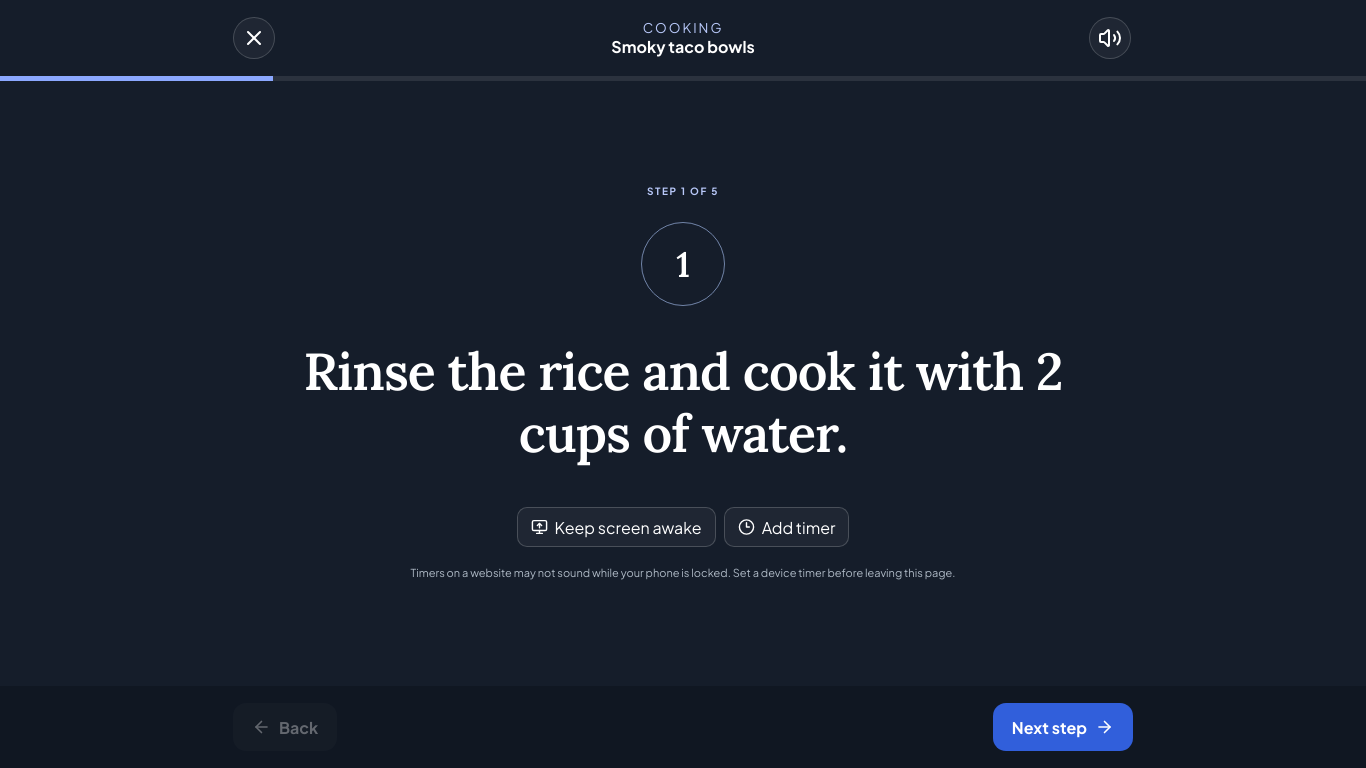
Test: guided cooking mode › lets the cook create, control, extend, reset, and dismiss a labeled timer
Click the button "Add timer": {"x": 786, "y": 527} [724,507,849,547]
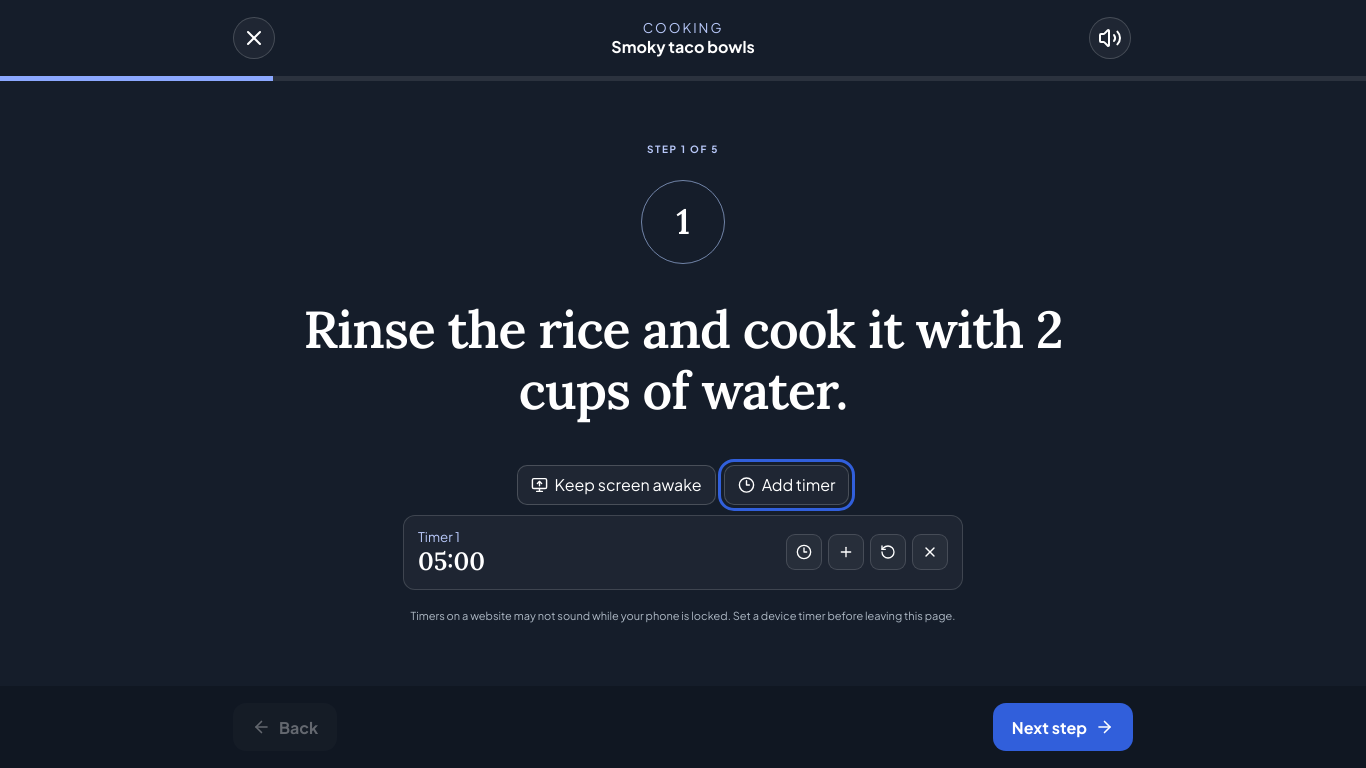
Now the text "Timer 1" is shown, box [418,528,460,545]
Now the text "05:00" is shown, box [418,545,485,577]
Click the button named "Start Timer 1": {"x": 804, "y": 552} [786,534,822,570]
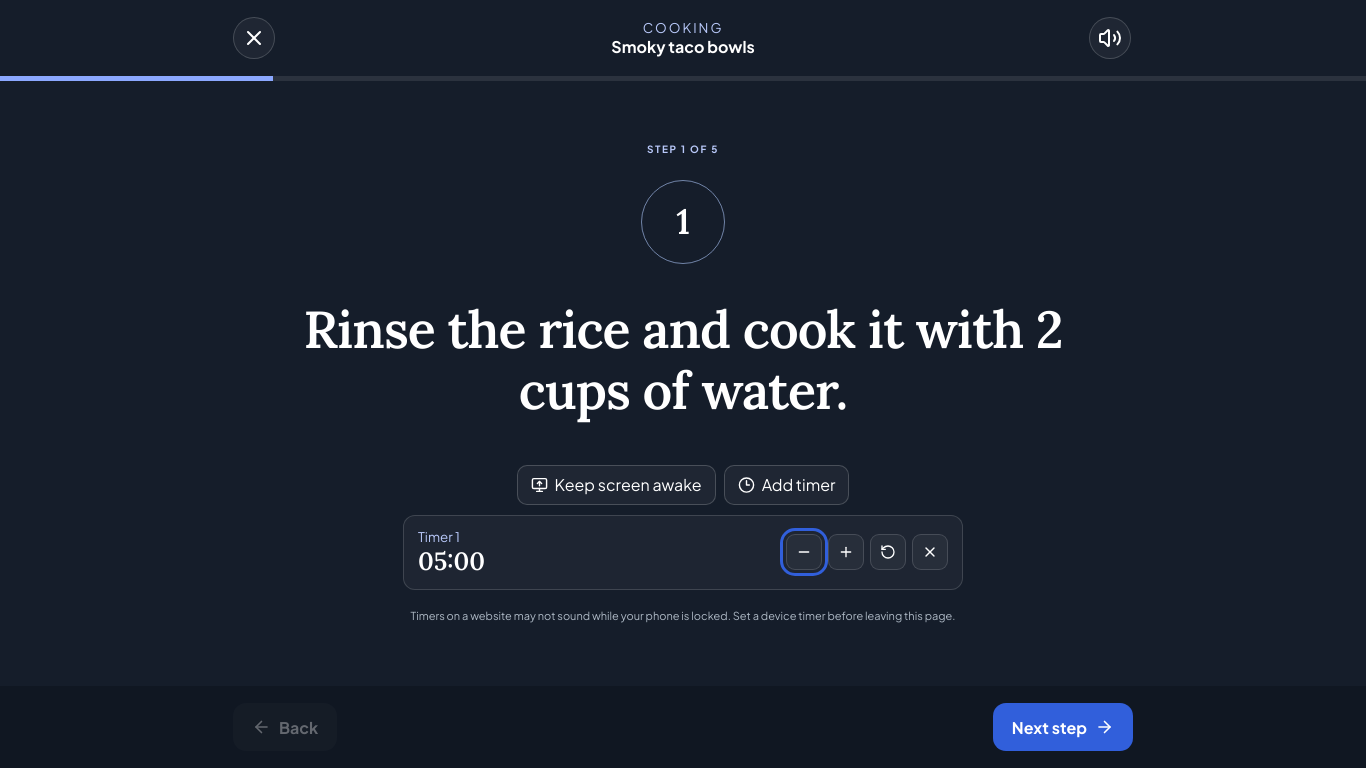
Now the button named "Pause Timer 1" is shown, box [786,534,822,570]
Click the button named "Add one minute to Timer 1": {"x": 846, "y": 552} [828,534,864,570]
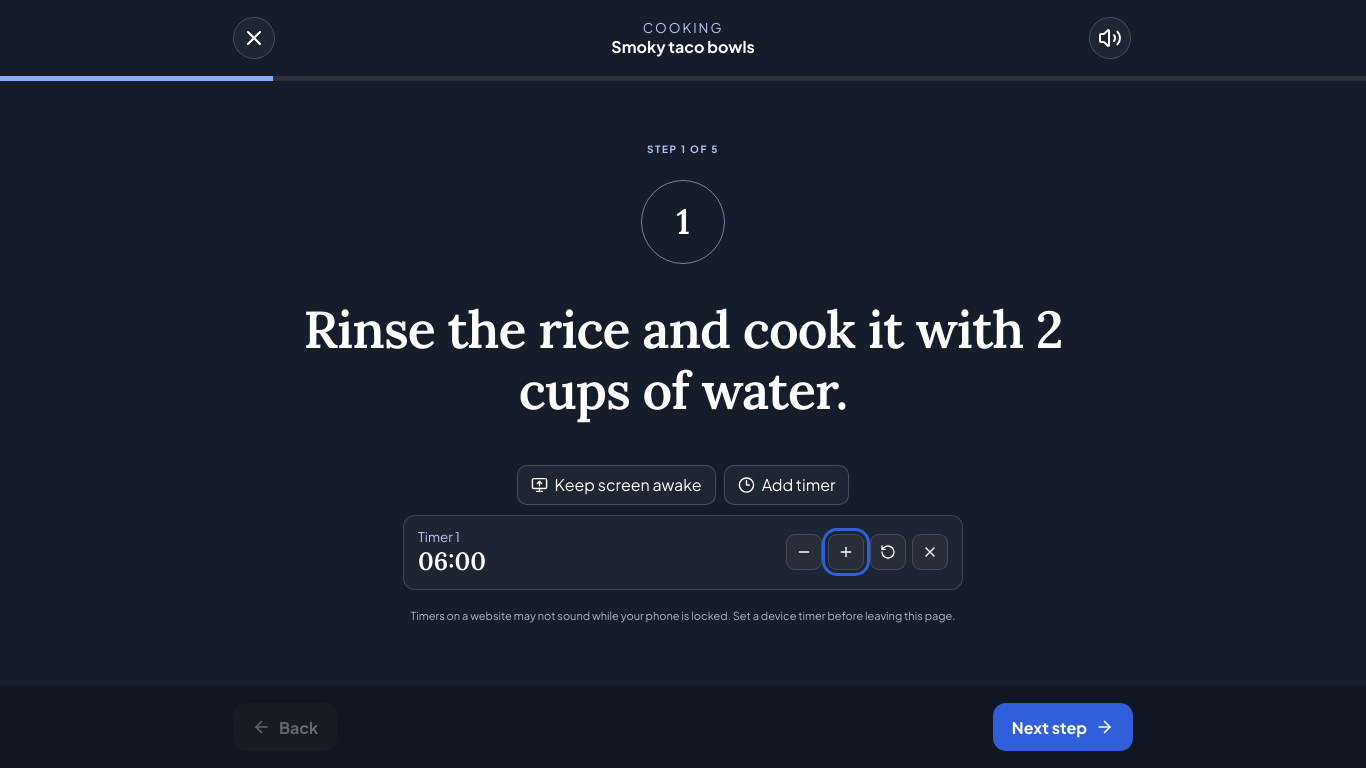
Now the text "06:00" is shown, box [418,545,486,577]
Click the button named "Reset Timer 1": {"x": 888, "y": 552} [870,534,906,570]
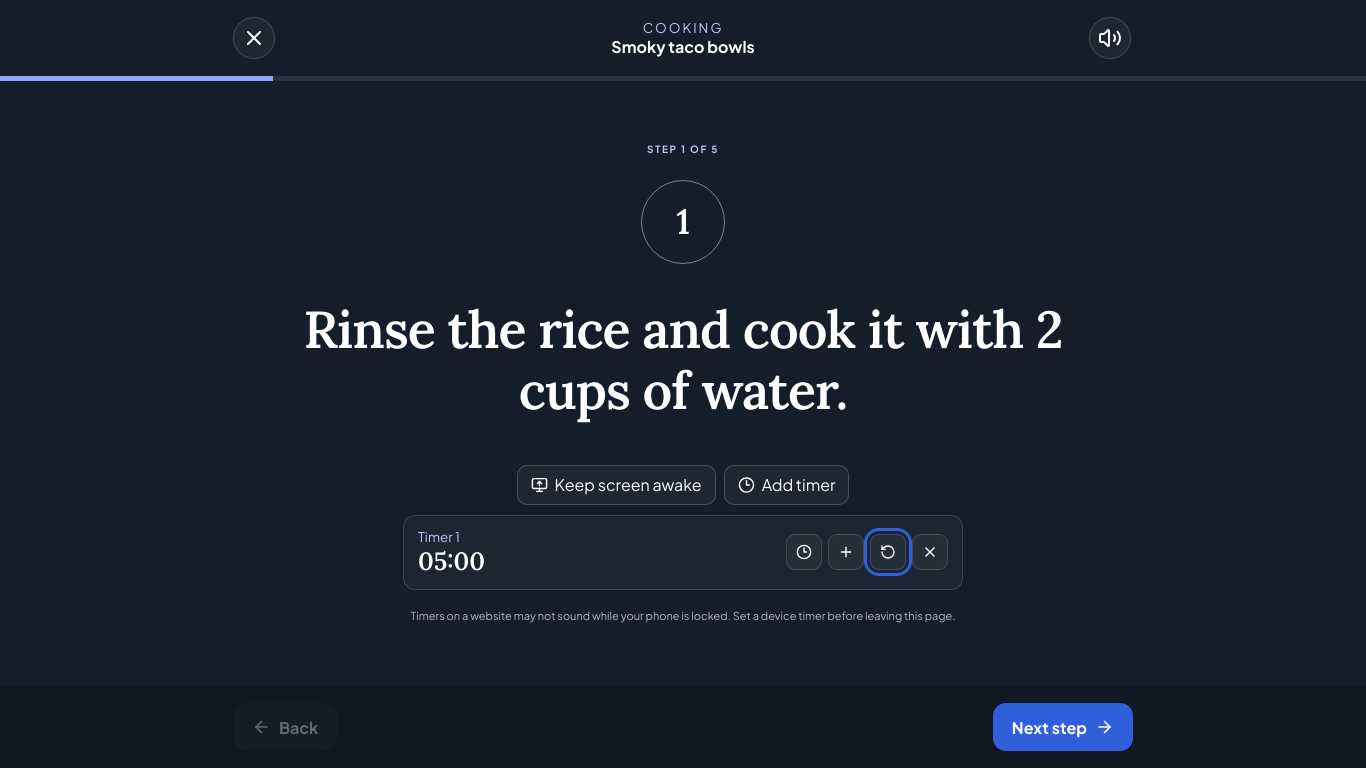
Now the text "05:00" is shown, box [418,545,485,577]
Click the button named "Dismiss Timer 1": {"x": 930, "y": 552} [912,534,948,570]
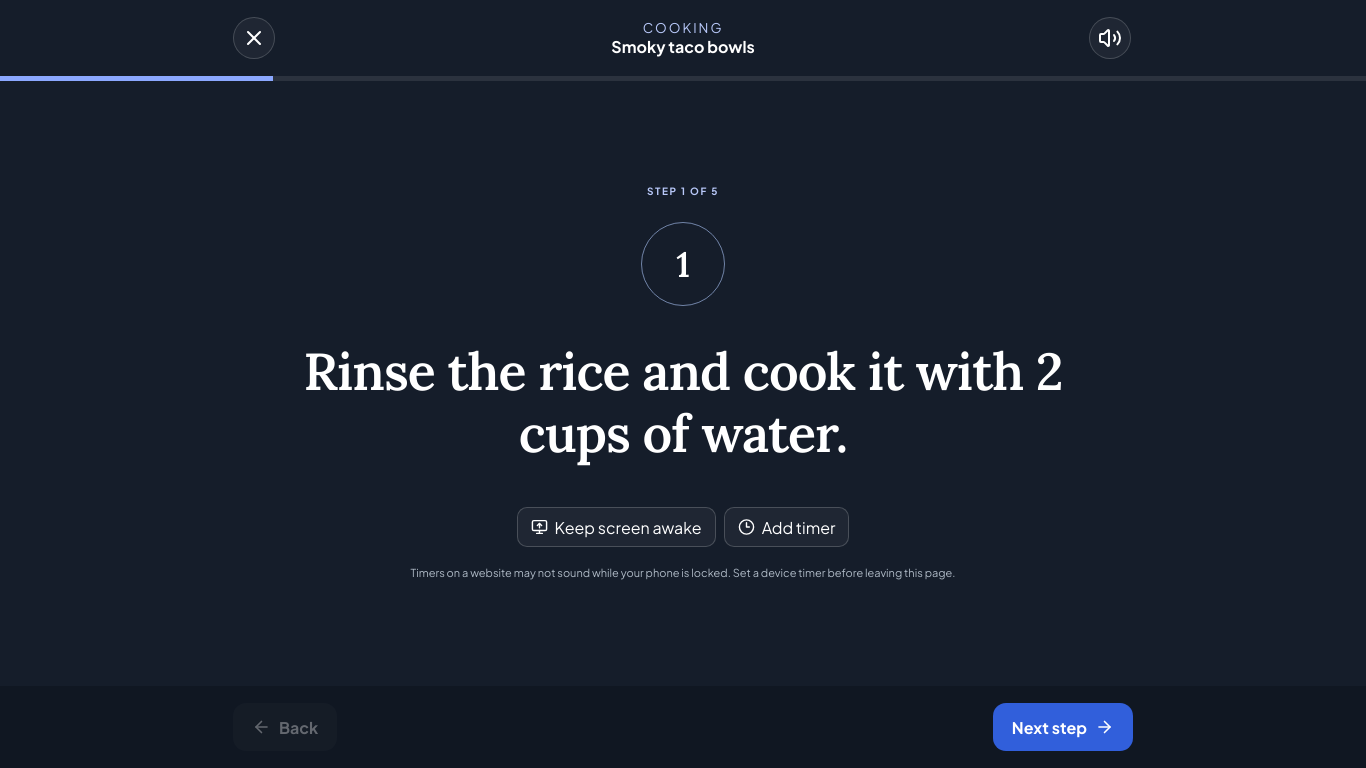
Now the text "Timer 1" is gone
